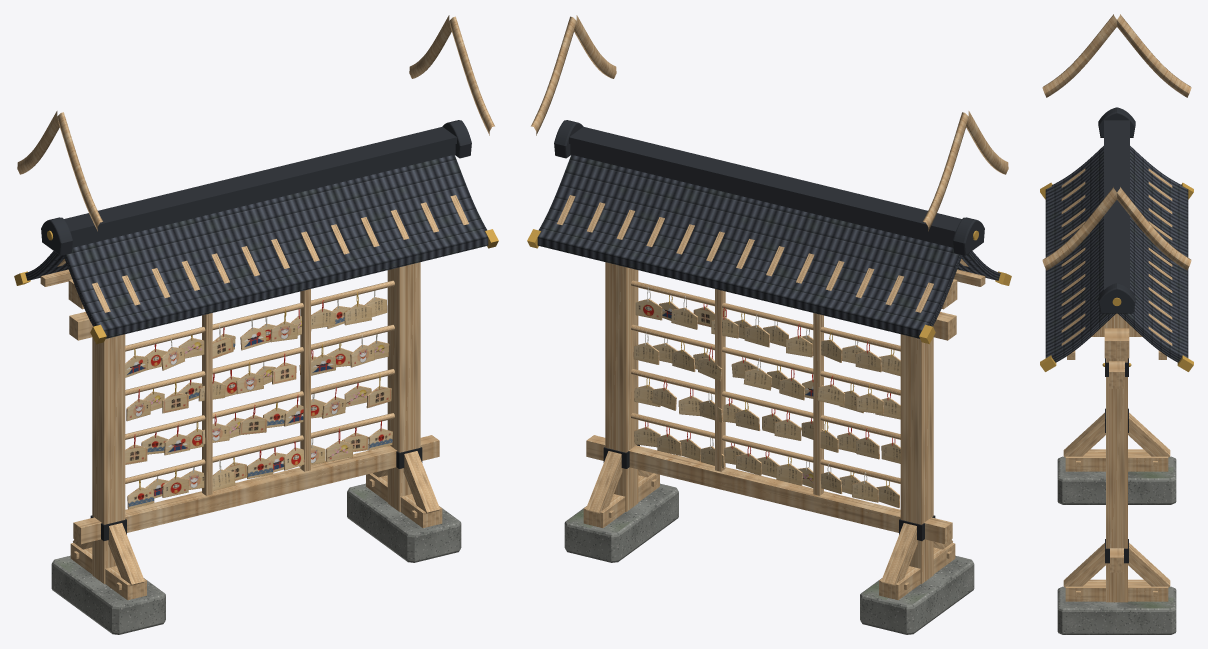
File: ema-prayer-board.glb
3 views of the same model, side by side, from view 1: azimuth 30°, elevation 25°; view 2: azimuth 150°, elevation 25°; view 3: azimuth 270°, elevation 25° (orthographic). The views are drawn at different scales.
Visible parts, largest first — view 1: Roof_Slope_Front, Mune_RidgeBeam_Cap, Nuki_LowerTieBeam, Hashira_Post_Left, Hashira_Post_Right, Soseki_GraniteBase_Right, Soseki_GraniteBase_Left, Mune_RidgeBeam_Base, Frame_Mullion_1, Frame_Mullion_2, Hanging_Rail_Row_1, Hanging_Rail_Row_4 (+11 smaller); view 2: Roof_Slope_Back, Mune_RidgeBeam_Cap, Nuki_LowerTieBeam, Hashira_Post_Left, Hashira_Post_Right, Soseki_GraniteBase_Right, Soseki_GraniteBase_Left, Mune_RidgeBeam_Base, Frame_Mullion_1, Hanging_Rail_Row_4, Hanging_Rail_Row_1, Hanging_Rail_Row_2 (+11 smaller); view 3: Roof_Slope_Front, Roof_Slope_Back, Hashira_Post_Right, Soseki_GraniteBase_Right, Mune_RidgeBeam_Cap, Soseki_GraniteBase_Left, Stabilizer_Foot_Left, Stabilizer_Foot_Right, Hafu_Bargeboard_Left_B, Hafu_Bargeboard_Left_F, Hafu_Bargeboard_Right_B, Hafu_Bargeboard_Right_F (+10 smaller).
Boxes of the visible parts, <box> form: Roof_Slope_Front: <box>63,154,488,338</box>; Mune_RidgeBeam_Cap: <box>64,126,456,237</box>; Nuki_LowerTieBeam: <box>73,435,439,544</box>; Hashira_Post_Left: <box>92,334,125,583</box>; Hashira_Post_Right: <box>387,262,420,511</box>; Soseki_GraniteBase_Right: <box>347,483,461,562</box>; Soseki_GraniteBase_Left: <box>51,555,165,634</box>; Mune_RidgeBeam_Base: <box>72,144,455,247</box>; Frame_Mullion_1: <box>202,313,212,495</box>; Frame_Mullion_2: <box>300,289,310,471</box>; Hanging_Rail_Row_1: <box>125,280,394,351</box>; Hanging_Rail_Row_4: <box>125,413,394,483</box>; Roof_Slope_Back: <box>537,154,962,338</box>; Mune_RidgeBeam_Cap: <box>569,126,961,237</box>; Nuki_LowerTieBeam: <box>586,435,952,544</box>; Hashira_Post_Left: <box>900,334,933,583</box>; Hashira_Post_Right: <box>605,262,638,511</box>; Soseki_GraniteBase_Right: <box>564,483,678,562</box>; Soseki_GraniteBase_Left: <box>860,555,974,634</box>; Mune_RidgeBeam_Base: <box>570,144,953,247</box>; Frame_Mullion_1: <box>813,313,823,495</box>; Hanging_Rail_Row_4: <box>631,413,900,483</box>; Hanging_Rail_Row_1: <box>631,280,900,351</box>; Hanging_Rail_Row_2: <box>631,324,900,395</box>; Roof_Slope_Front: <box>1045,146,1115,362</box>; Roof_Slope_Back: <box>1118,146,1188,362</box>; Hashira_Post_Right: <box>1106,358,1127,602</box>; Soseki_GraniteBase_Right: <box>1057,586,1176,634</box>; Mune_RidgeBeam_Cap: <box>1104,120,1129,289</box>; Soseki_GraniteBase_Left: <box>1057,456,1176,504</box>; Stabilizer_Foot_Left: <box>1065,449,1168,471</box>; Stabilizer_Foot_Right: <box>1065,579,1168,601</box>; Hafu_Bargeboard_Left_B: <box>1117,14,1191,97</box>; Hafu_Bargeboard_Left_F: <box>1042,14,1116,97</box>; Hafu_Bargeboard_Right_B: <box>1117,187,1191,270</box>; Hafu_Bargeboard_Right_F: <box>1042,187,1116,270</box>.
Size of the model in its own units: 2.36 by 2.76 by 0.8387.
20 materials, 14 textured.
